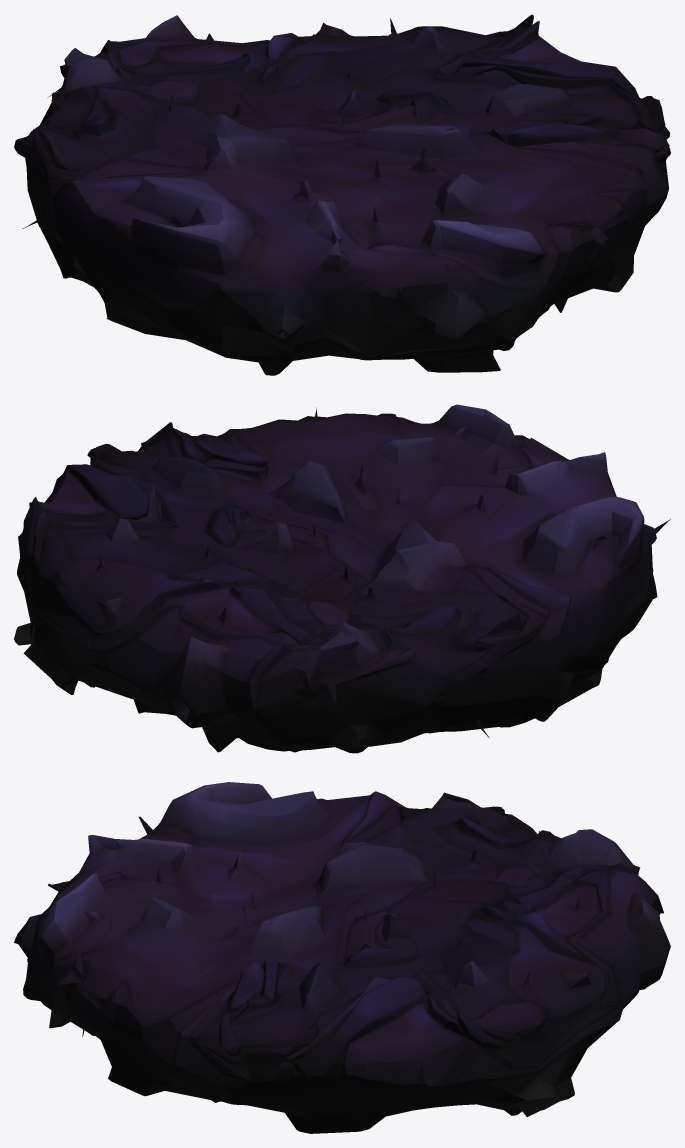
The model's file is CosChamps4_land_circle.fbx.
The picture shows the model from 3 angles, top to bottom: view 1: azimuth 30°, elevation 25°; view 2: azimuth 150°, elevation 25°; view 3: azimuth 270°, elevation 25°; orthographic projection. The views are drawn at different scales.
Parts seen in each view (by area): view 1: cliffrock_generator59.040; view 2: cliffrock_generator59.040; view 3: cliffrock_generator59.040.
Boxes of the visible parts, bbox=[...] form: cliffrock_generator59.040: bbox=[14, 14, 670, 375]; cliffrock_generator59.040: bbox=[14, 404, 670, 753]; cliffrock_generator59.040: bbox=[14, 782, 670, 1133].
Size of the model in its own units: 5460 by 1709 by 5902.
